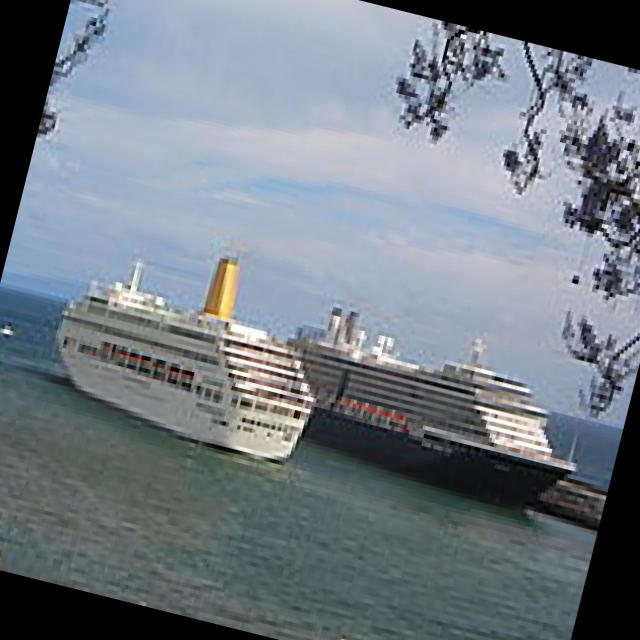boat: (262, 300, 592, 538), (26, 249, 337, 493)
